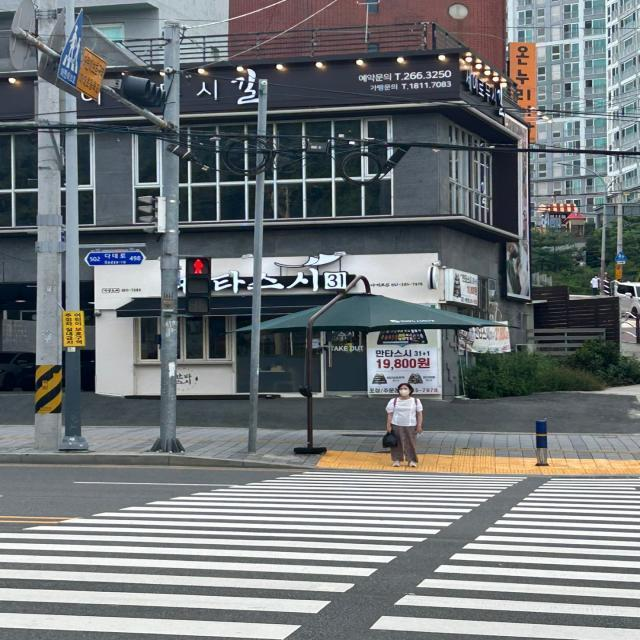red_light: (189, 256, 208, 278)
